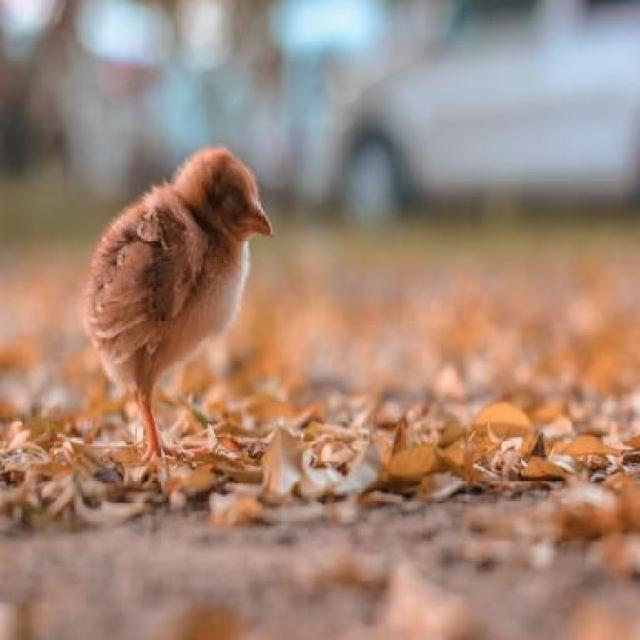poussin: (80, 140, 276, 490)
